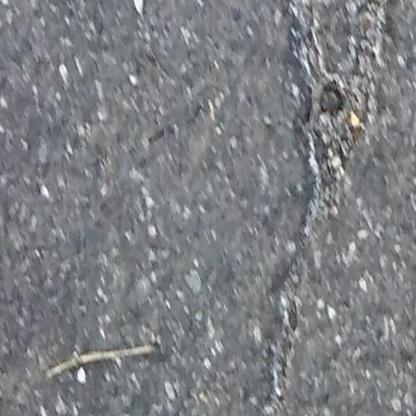Cracks: (249, 0, 398, 416)
